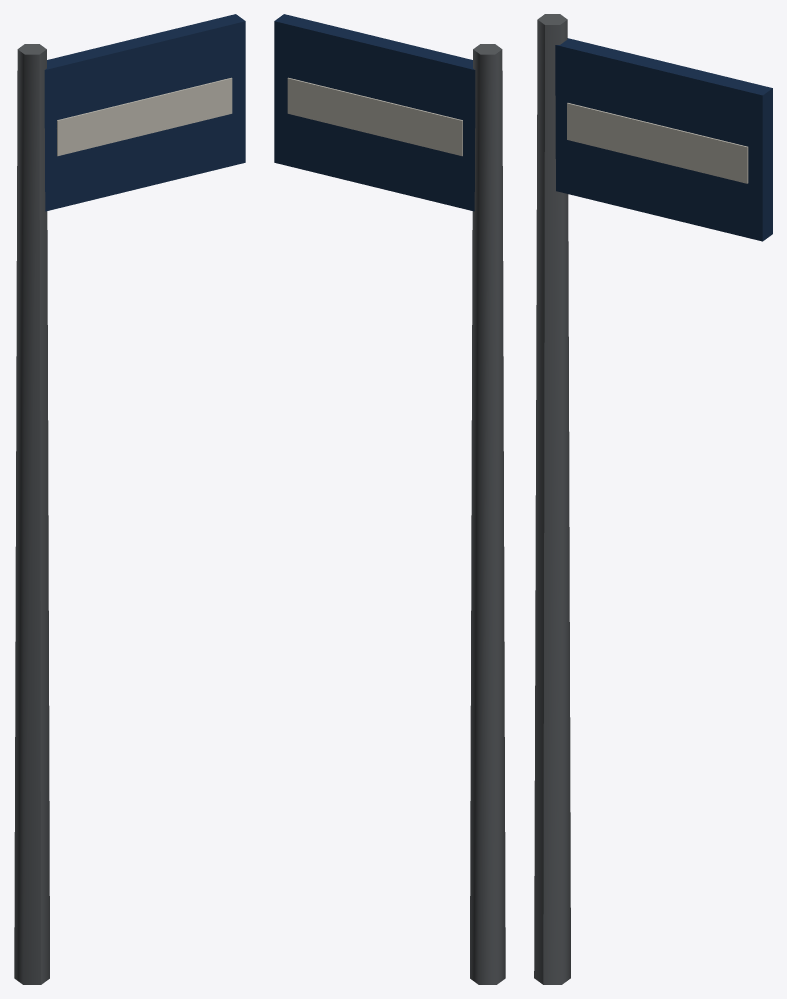
Rendered from furniture-bus.glb.
3 renders of one model, left to right at view 1: azimuth 30°, elevation 25°; view 2: azimuth 150°, elevation 25°; view 3: azimuth 330°, elevation 25°, orthographic. The views are drawn at different scales.
Bounding box in the file's own units: 0.7876 × 3.15 × 0.11.
